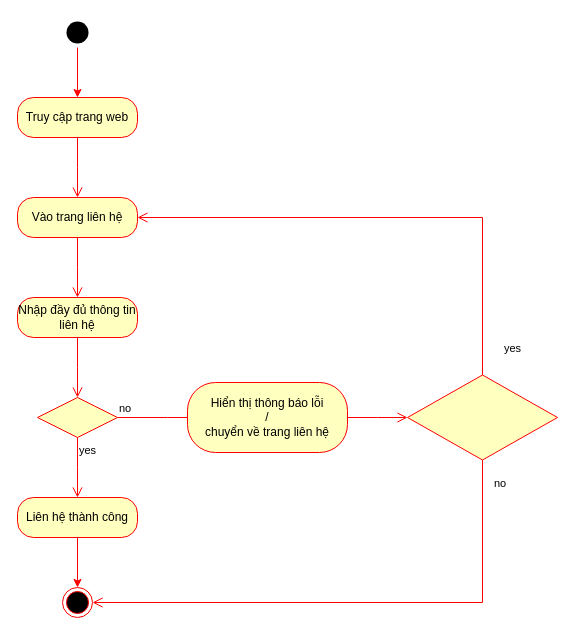
Image size: 575x635. Some labels were removed from this diagram. The box of each missing label's shape, as (x1, y1, x2, y2) in pixels:
bạn có muốn liên hệ lại không: (406, 374, 558, 460)
Hệ thống xử lý: (36, 396, 118, 438)
